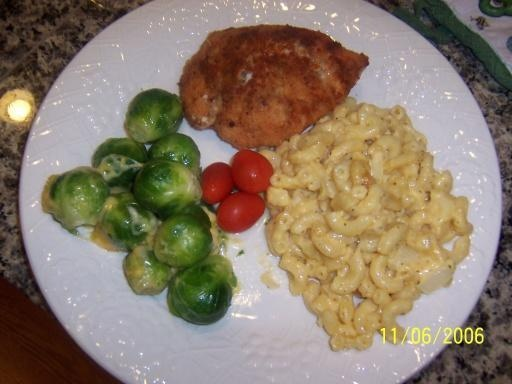background: (33, 14, 378, 211)
